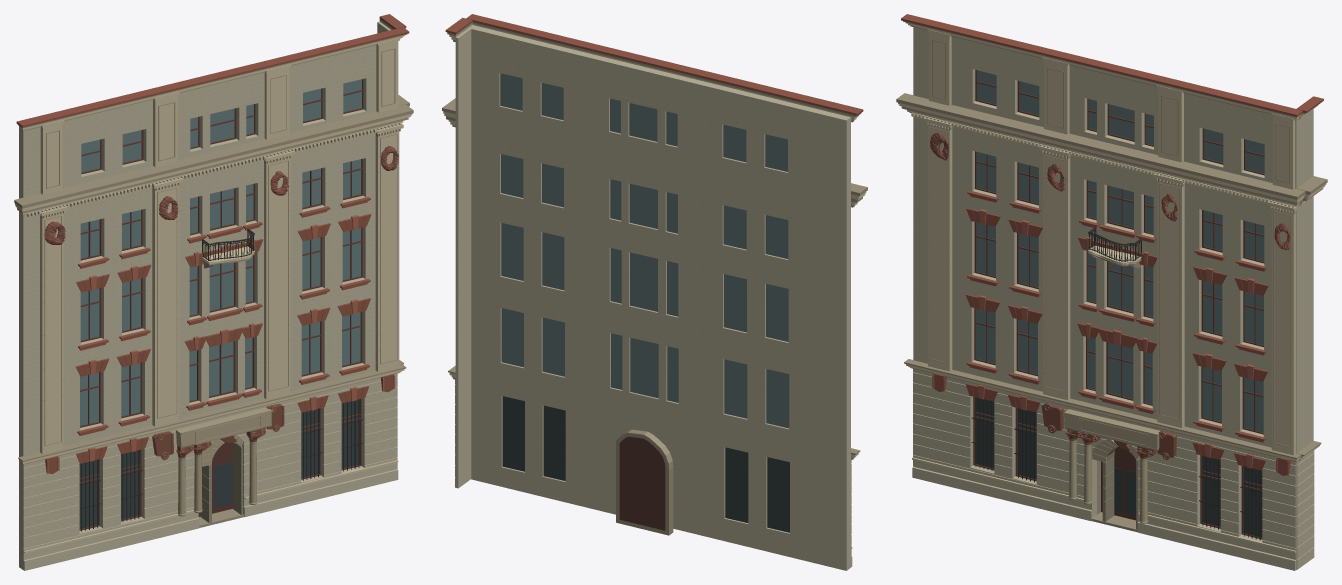
File: huangpu-shanghai-tramways-suzhou-road-front-web.glb
The picture shows the model from 3 angles, left to right: view 1: azimuth 30°, elevation 25°; view 2: azimuth 150°, elevation 25°; view 3: azimuth 330°, elevation 25°; orthographic projection. The views are drawn at different scales.
Visible parts, largest first — view 1: 英商上海电车公司大楼临河立面与柱廊入口; view 2: 英商上海电车公司大楼临河立面与柱廊入口; view 3: 英商上海电车公司大楼临河立面与柱廊入口.
Boxes of the visible parts, left/top/right/bottom form: 英商上海电车公司大楼临河立面与柱廊入口: left=14, top=14, right=413, bottom=570; 英商上海电车公司大楼临河立面与柱廊入口: left=442, top=14, right=867, bottom=570; 英商上海电车公司大楼临河立面与柱廊入口: left=896, top=14, right=1327, bottom=570.
Size of the model in its own units: 19.74 by 21.63 by 2.49.
18 materials, 1 textured.
